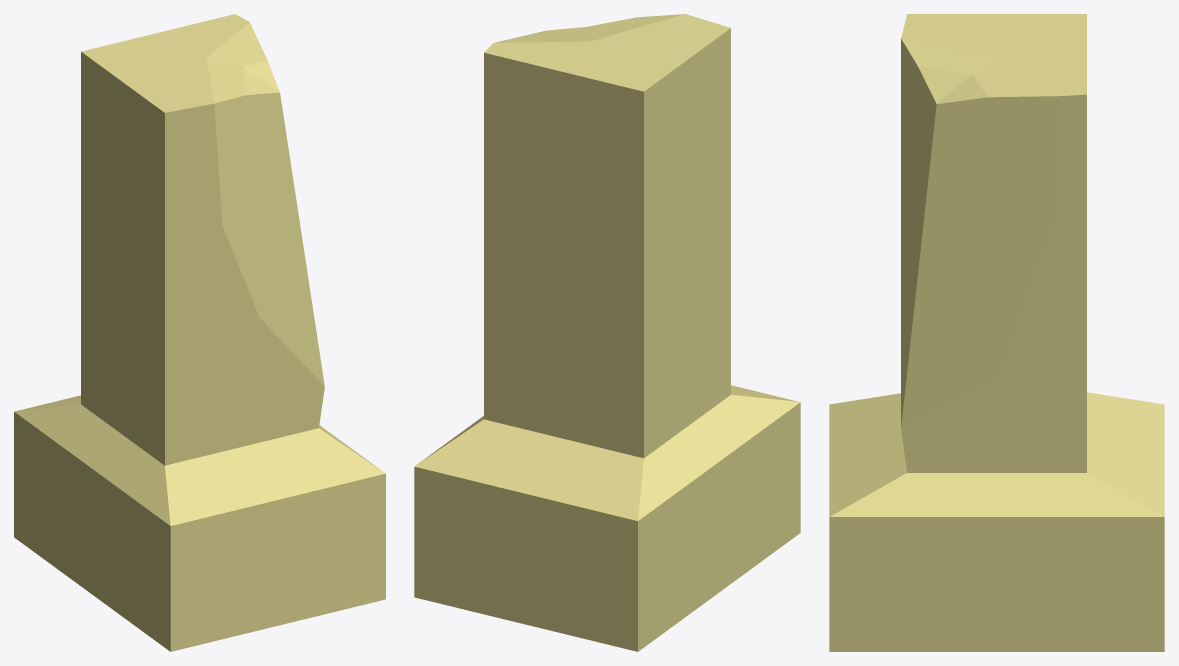
The model's file is pillar2.obj.
3 renders of one model, left to right at view 1: azimuth 30°, elevation 25°; view 2: azimuth 150°, elevation 25°; view 3: azimuth 270°, elevation 25°, orthographic. The views are drawn at different scales.
Visible parts, largest first — view 1: pilla2; view 2: pilla2; view 3: pilla2.
Part boxes in pixels (bbox=[...]): pilla2: bbox=[14, 14, 385, 651]; pilla2: bbox=[414, 14, 800, 651]; pilla2: bbox=[829, 14, 1164, 651].
Bounding box in the file's own units: 1.34 × 3 × 1.68.
